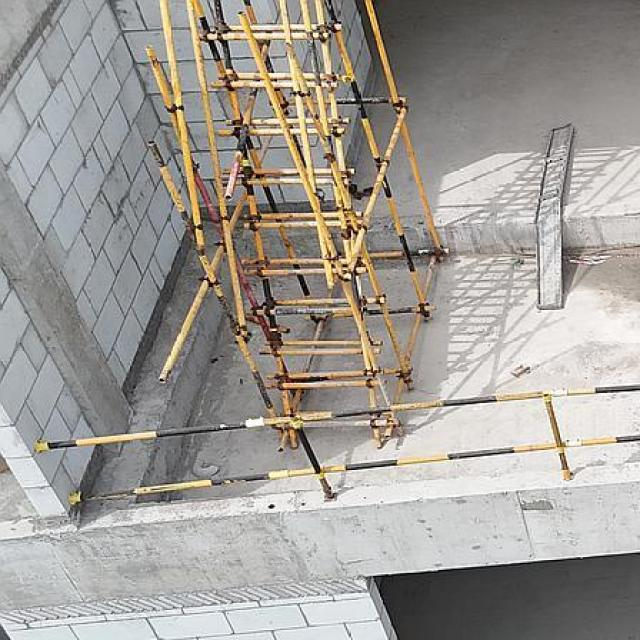edge_guardrail: (37, 383, 640, 501)
